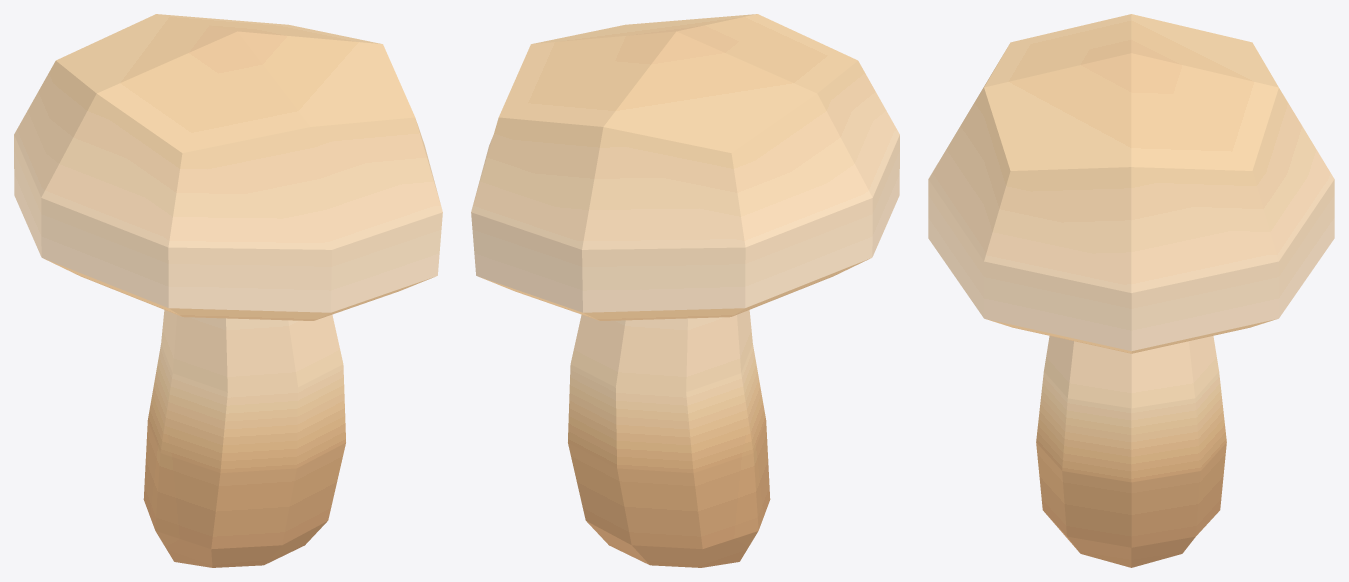
File: Champignon_large.glb
3 renders of one model, left to right at view 1: azimuth 30°, elevation 25°; view 2: azimuth 150°, elevation 25°; view 3: azimuth 270°, elevation 25°, orthographic. The views are drawn at different scales.
Parts seen in each view (by area): view 1: Cube.002; view 2: Cube.002; view 3: Cube.002.
Boxes of the visible parts, box(x1,y1,x2,y2) form: Cube.002: box(14, 14, 442, 567); Cube.002: box(471, 14, 899, 567); Cube.002: box(928, 14, 1334, 567).
Bounding box in the file's own units: 4.15 × 5.47 × 3.99.
Materials: 1 (1 with a texture image).
